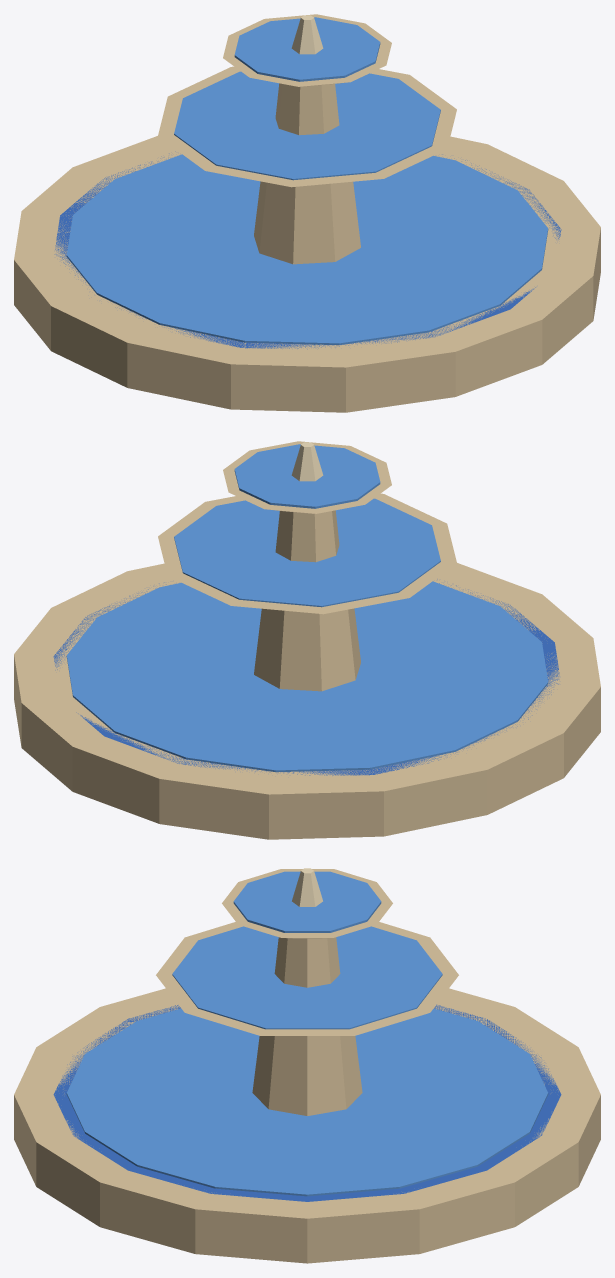
The model's file is fountain.glb.
3 renders of one model, top to bottom at view 1: azimuth 30°, elevation 25°; view 2: azimuth 150°, elevation 25°; view 3: azimuth 270°, elevation 25°, orthographic.
Visible parts, largest first — view 1: fountain; view 2: fountain; view 3: fountain.
Boxes of the visible parts, x1,y1,x2,y2 form: fountain: [14, 14, 600, 412]; fountain: [14, 441, 600, 839]; fountain: [14, 868, 600, 1263].
Size of the model in its own units: 8.9 by 4.49 by 8.9.
